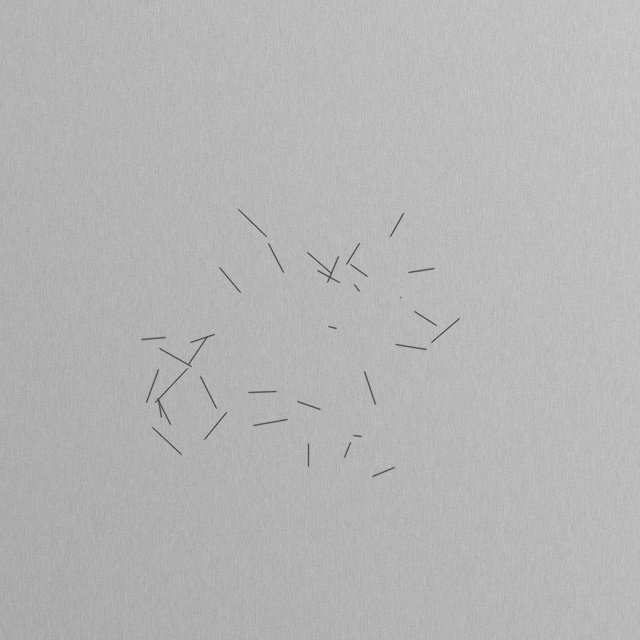crazing: (64, 80, 576, 560)
